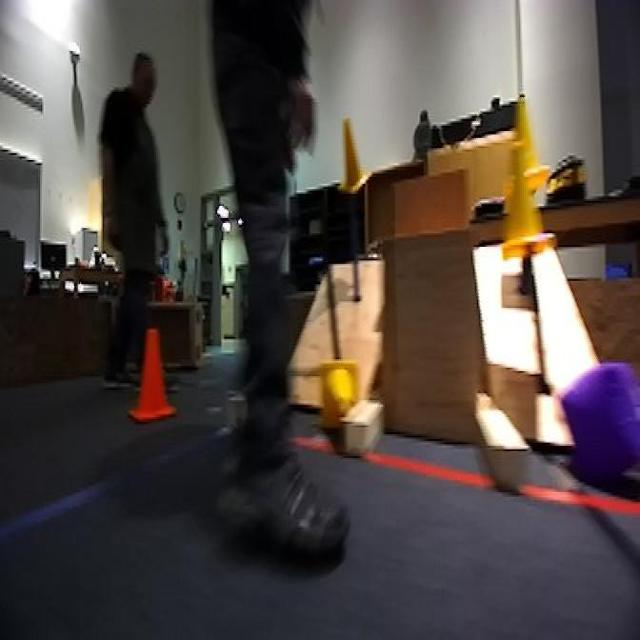frc_cone: (499, 136, 546, 266), (511, 94, 548, 187), (316, 364, 362, 426), (338, 116, 372, 189)
frc_cube: (560, 356, 640, 494)
